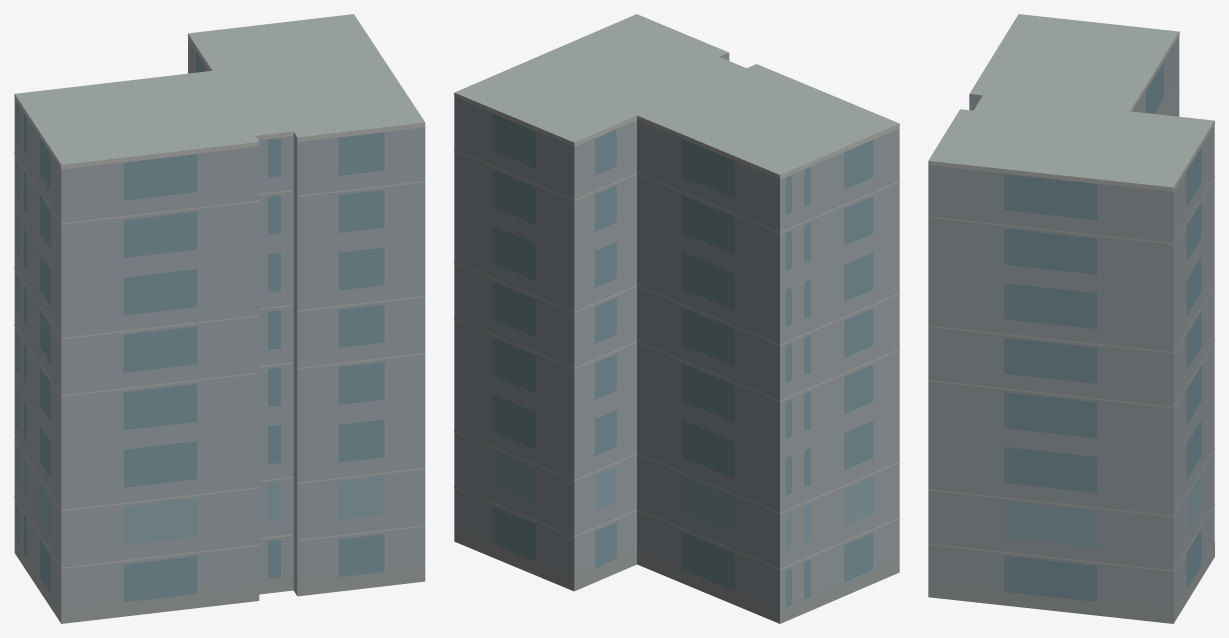
The model's file is survey-upis-32749429.glb.
3 renders of one model, left to right at view 1: azimuth 30°, elevation 25°; view 2: azimuth 150°, elevation 25°; view 3: azimuth 270°, elevation 25°, orthographic. The views are drawn at different scales.
Visible parts, largest first — view 1: survey-upis-32749429.tmp; view 2: survey-upis-32749429.tmp; view 3: survey-upis-32749429.tmp.
Boxes of the visible parts, box(x1,y1,x2,y2) form: survey-upis-32749429.tmp: box(14, 14, 425, 623); survey-upis-32749429.tmp: box(454, 14, 899, 623); survey-upis-32749429.tmp: box(928, 14, 1214, 623).
Bounding box in the file's own units: 20.84 × 24.4 × 14.54.
